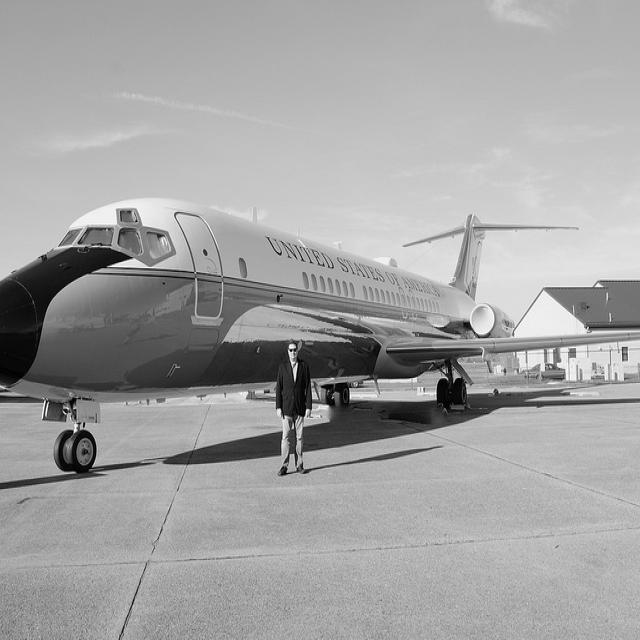Vehicle: (524, 364, 566, 379)
